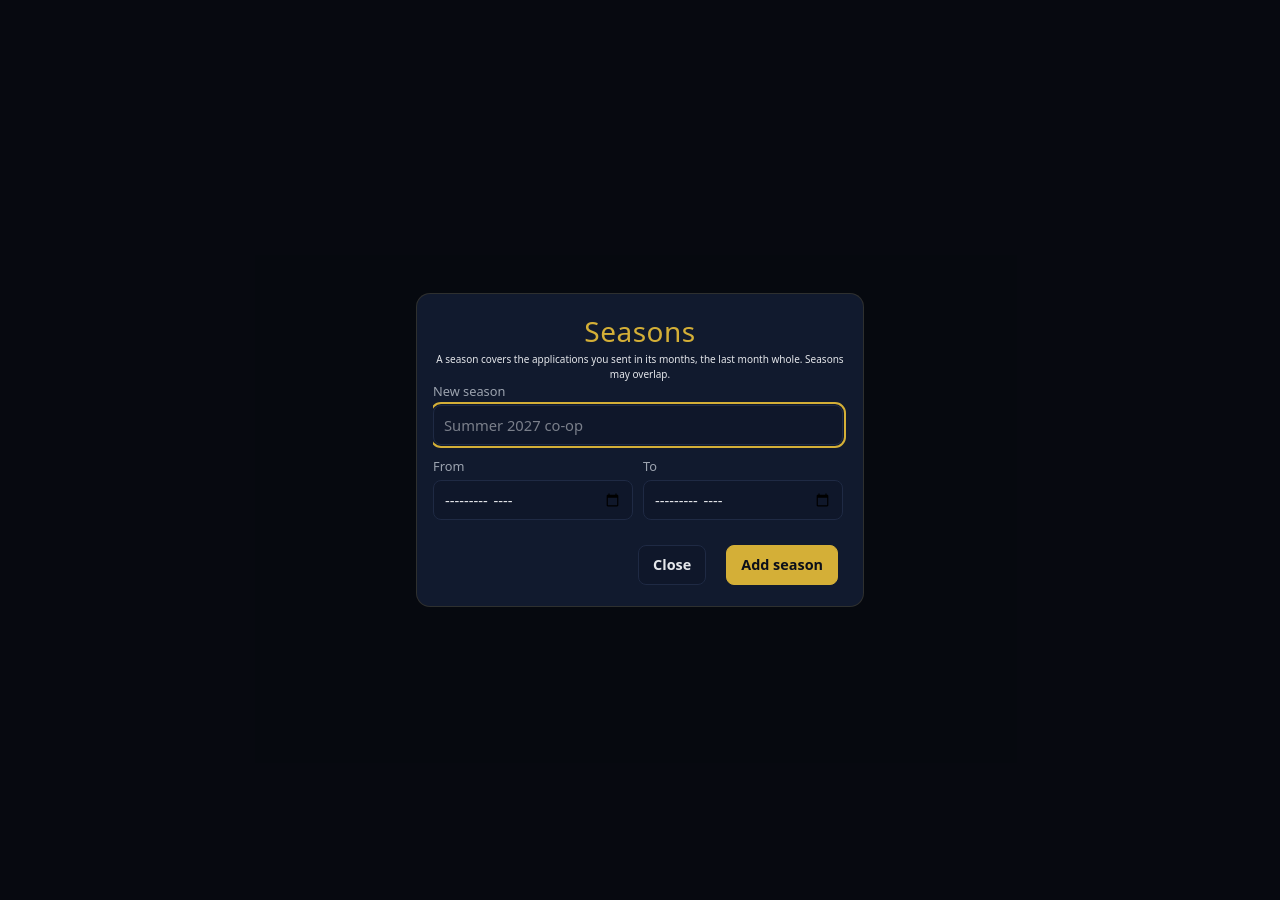
it: the seasons dialog › refuses a season that ends before it starts, before asking the server
The width and height of the screenshot is (1280, 900).
Type "Backwards" into the field labelled "New season" at (638, 425), box [433, 405, 843, 445]
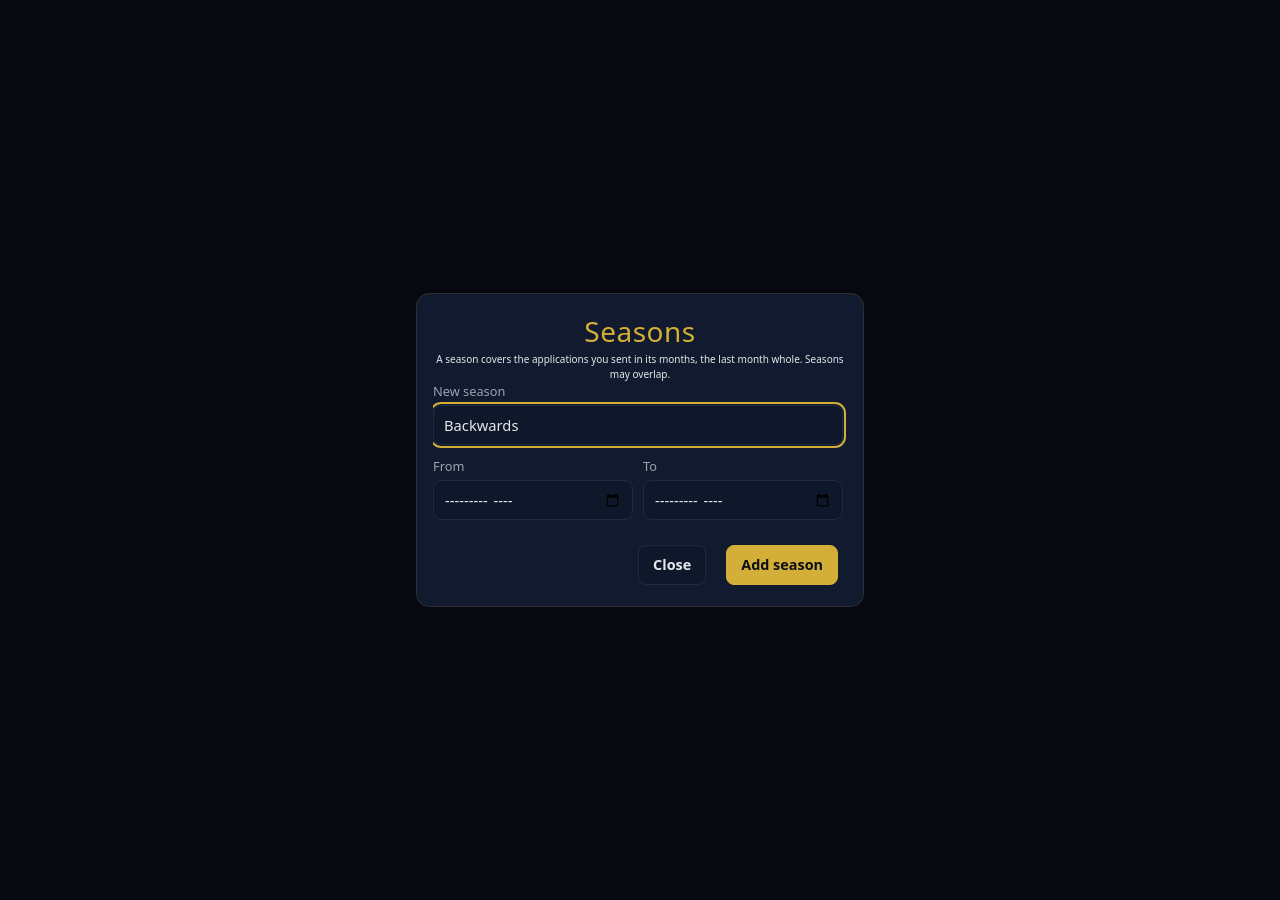
Type "2027-04" into the field labelled "From" at (533, 500), box [433, 480, 633, 520]
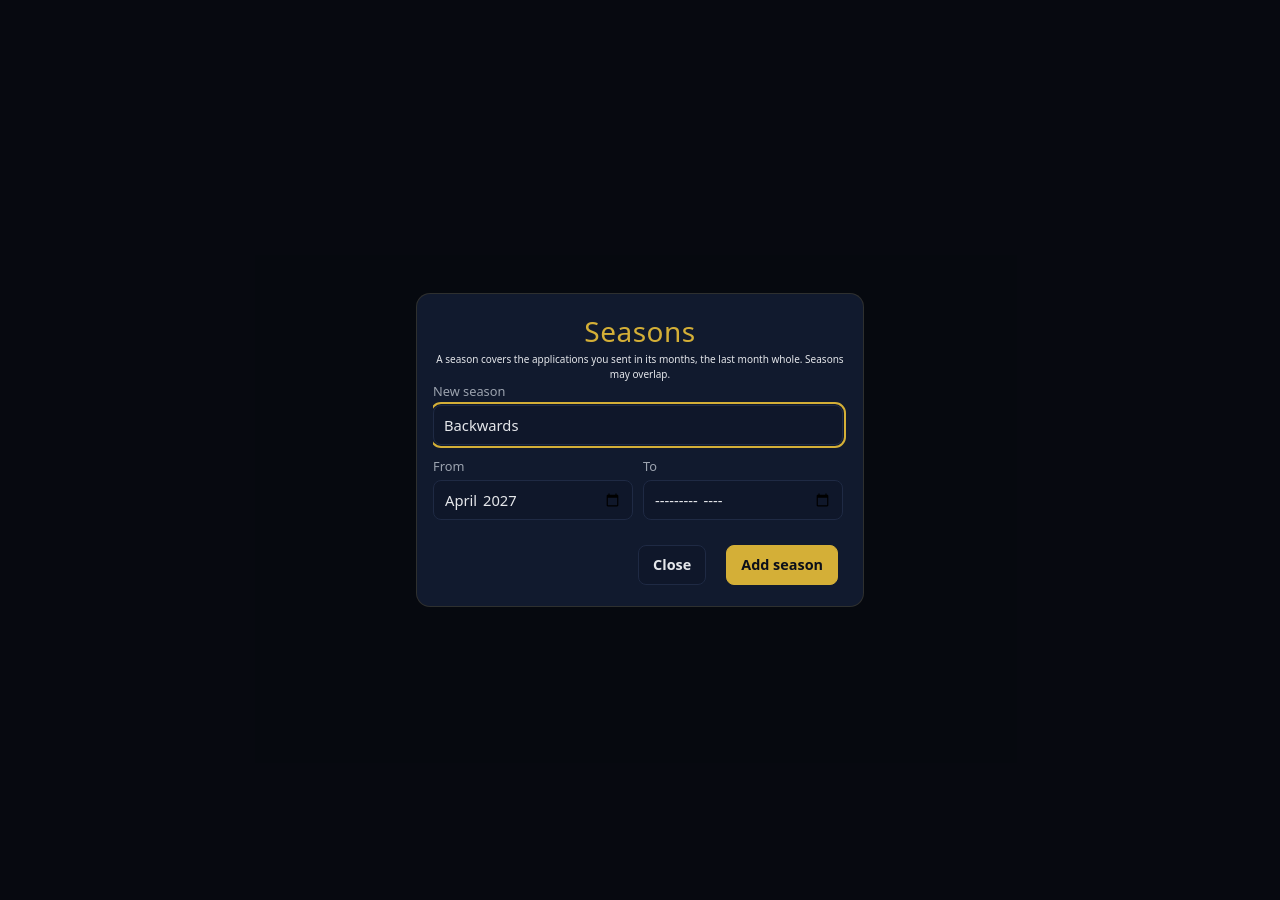
Type "2027-01" into the field labelled "To" at (743, 500), box [643, 480, 843, 520]
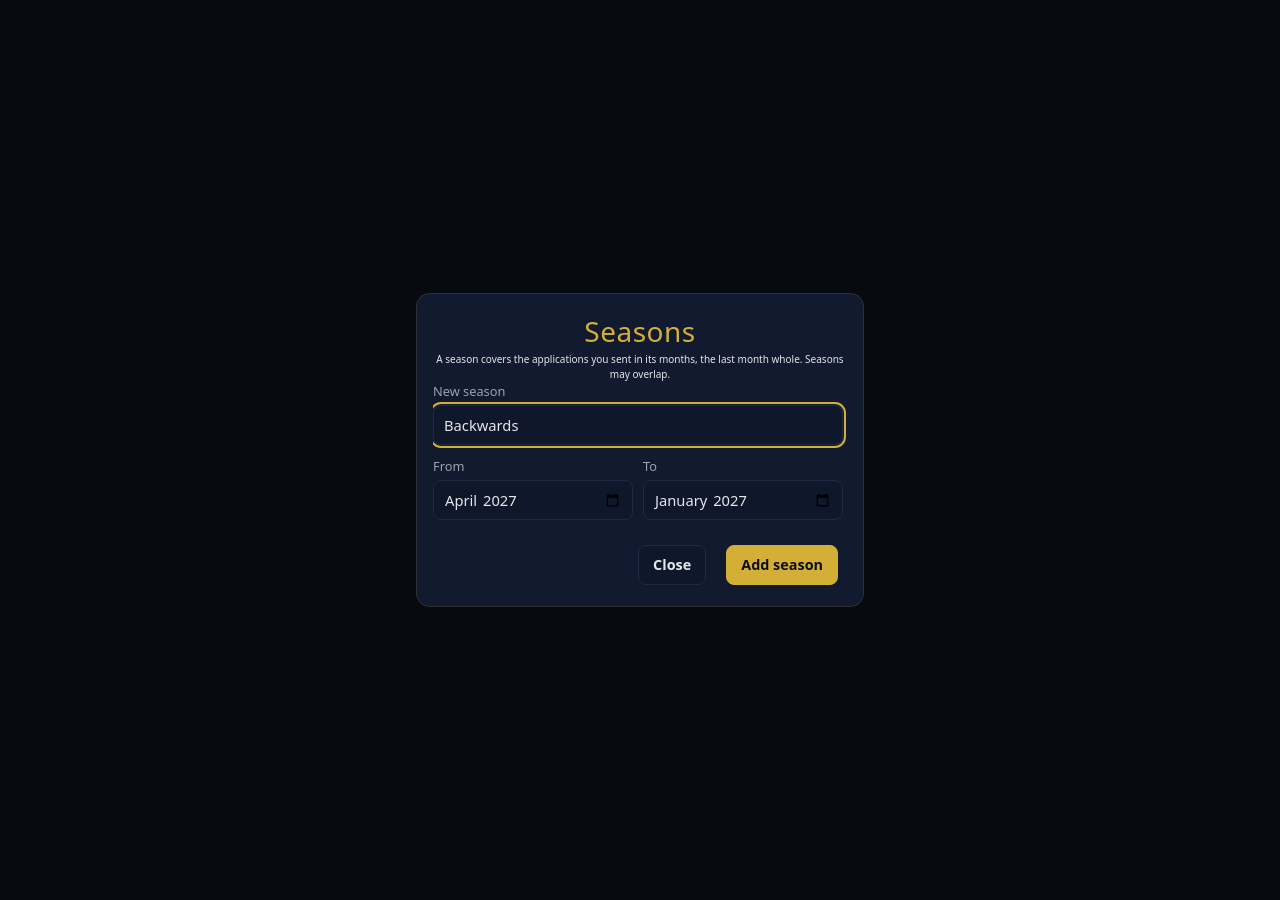
Click the button "Add season" at (782, 565), box [726, 546, 838, 585]
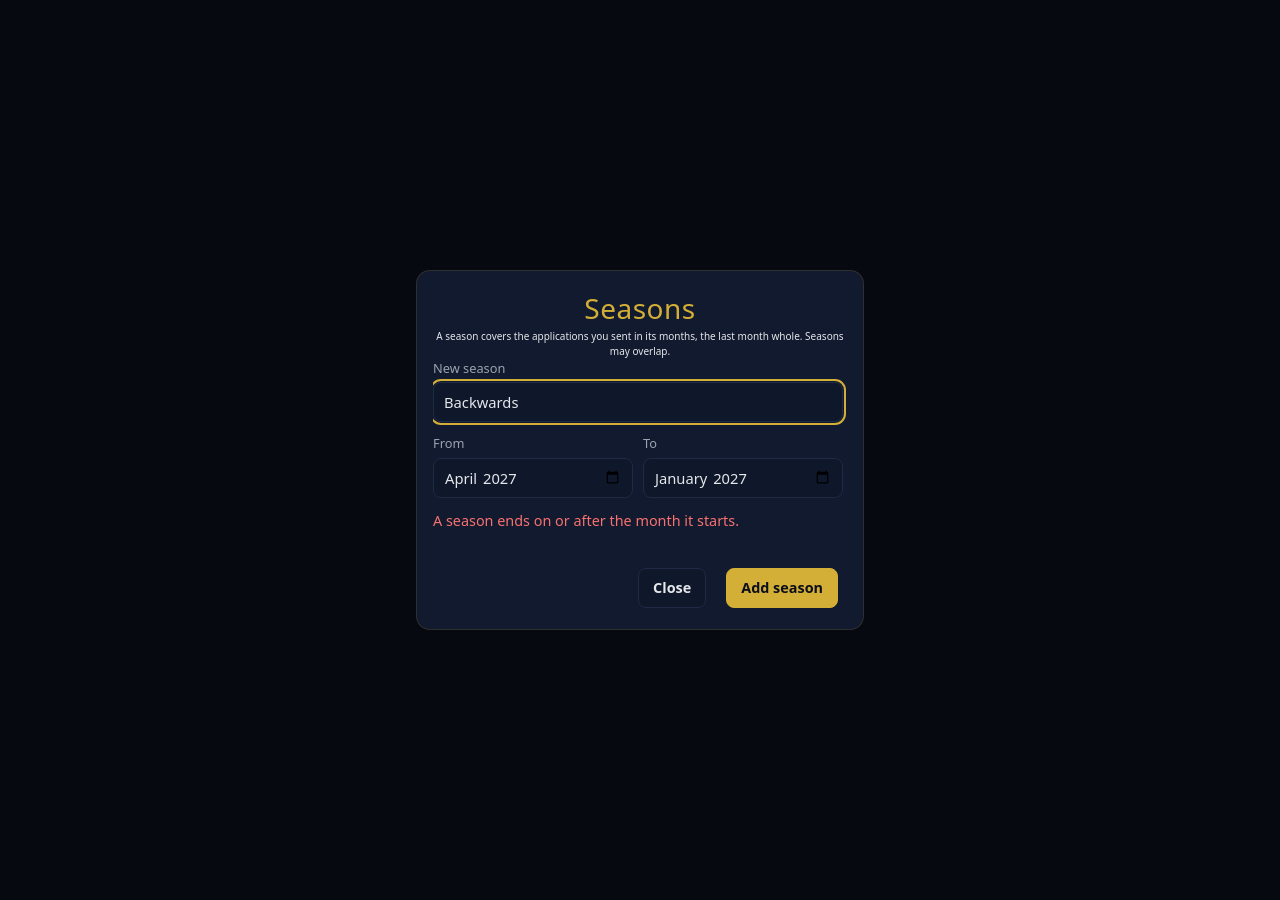
Expected: the text "A season ends on or after the month it starts." is shown, [433, 511, 739, 530]
